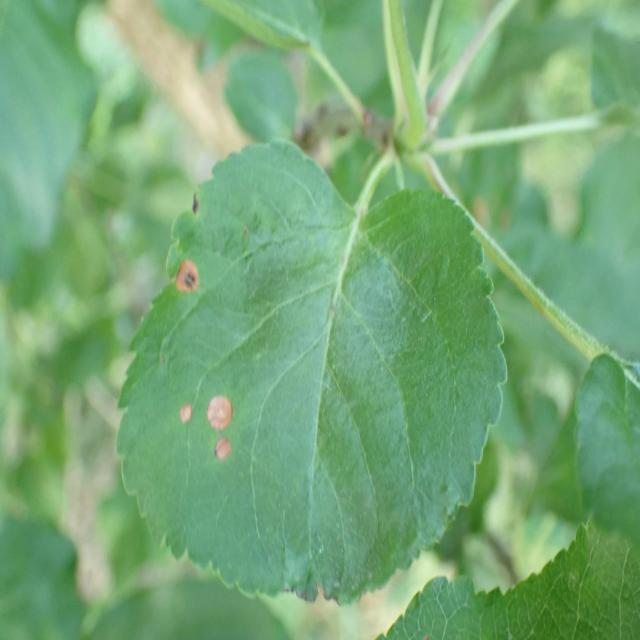Black Rot: (156, 220, 207, 320), (196, 366, 248, 438), (206, 432, 246, 486), (172, 381, 196, 438)
